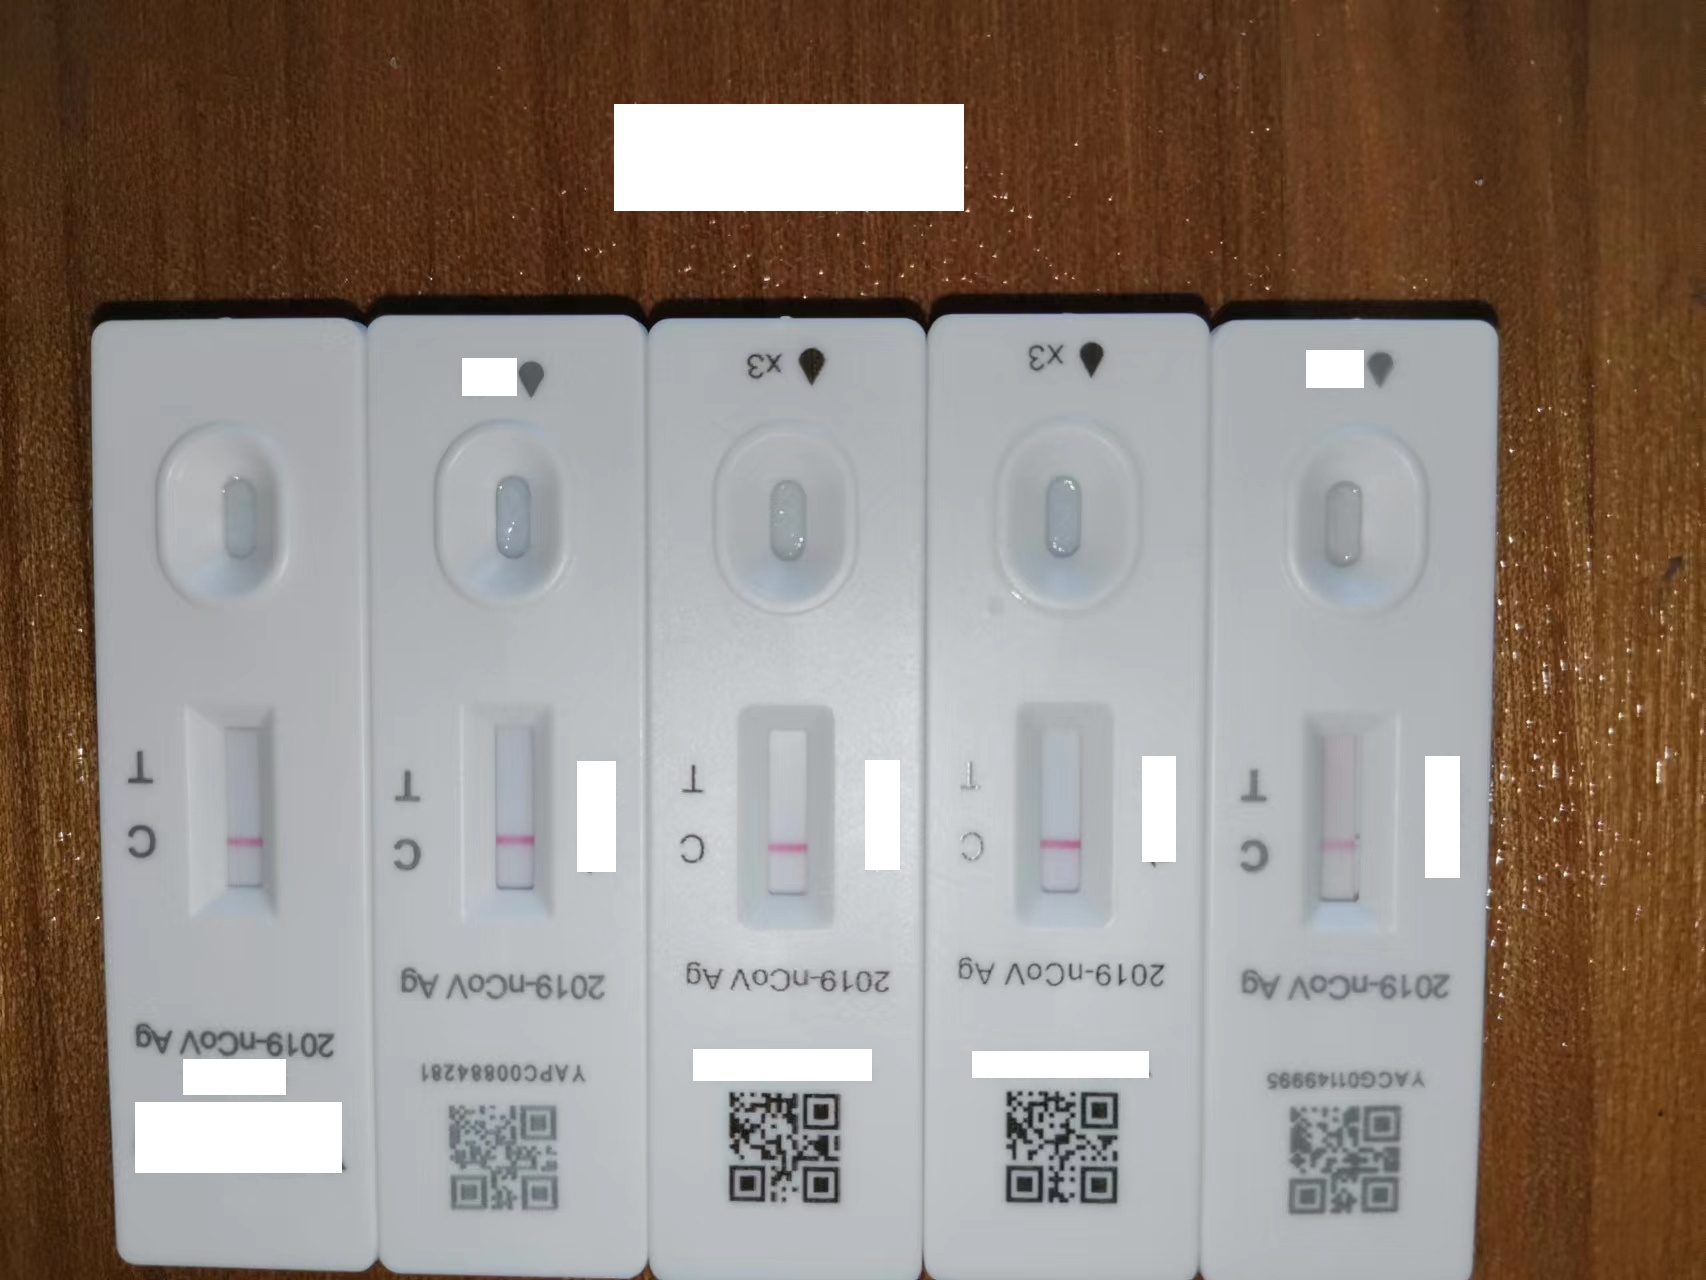negative: (1011, 701, 1114, 926), (735, 703, 836, 932), (186, 705, 280, 920), (462, 702, 557, 916), (1300, 711, 1393, 922)
